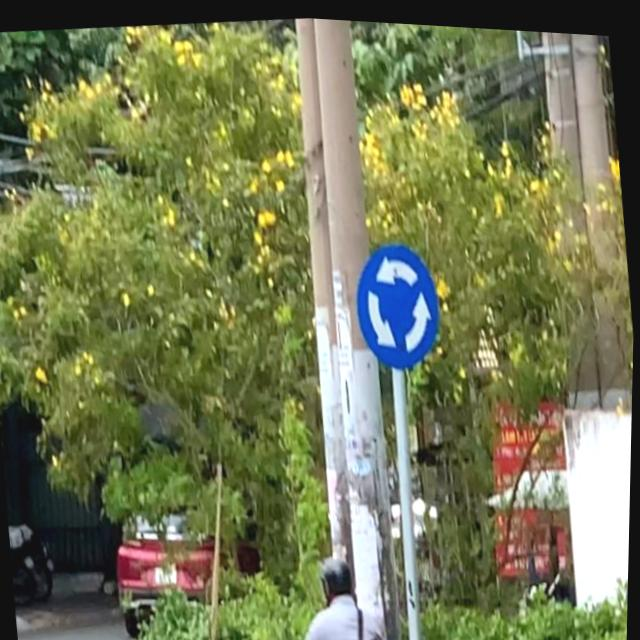Noi giao nhau chay theo vong xuyen: (349, 232, 446, 370)
